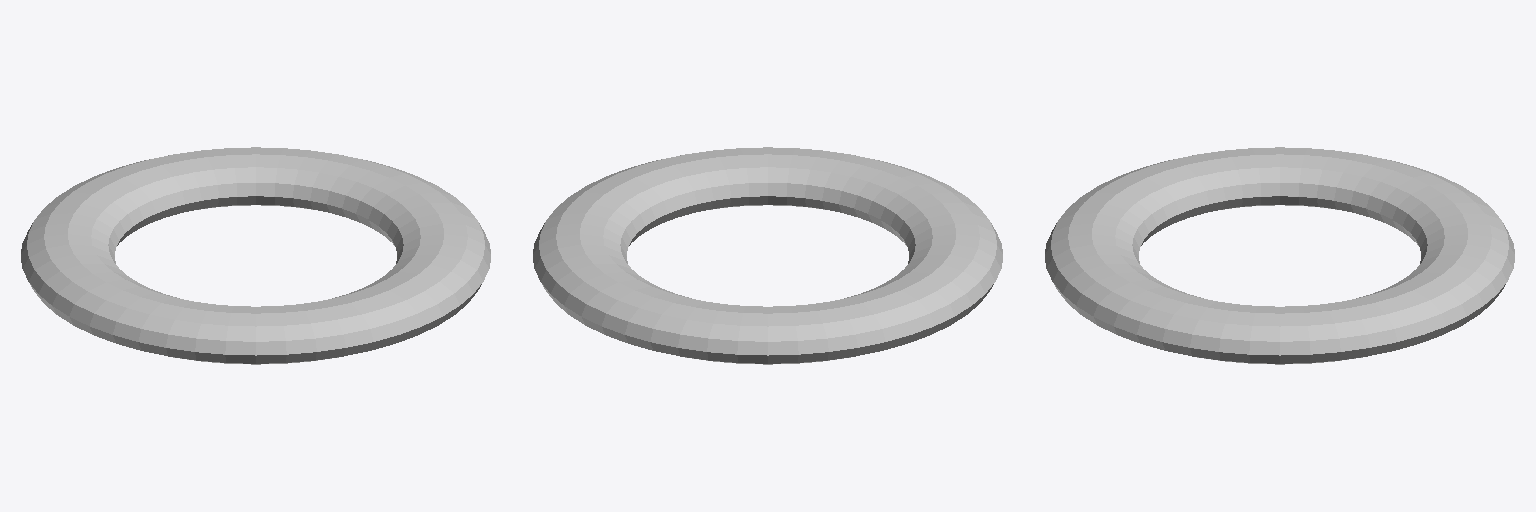
File: ring.obj
3 views of the same model, side by side, from view 1: azimuth 30°, elevation 25°; view 2: azimuth 150°, elevation 25°; view 3: azimuth 270°, elevation 25° (orthographic).
Parts seen in each view (by area): view 1: Torus; view 2: Torus; view 3: Torus.
Part boxes in pixels (left/top/right/bottom): Torus: left=21, top=147, right=490, bottom=364; Torus: left=533, top=147, right=1002, bottom=364; Torus: left=1045, top=147, right=1514, bottom=364.
Bounding box in the file's own units: 4.37 × 0.45 × 4.37.